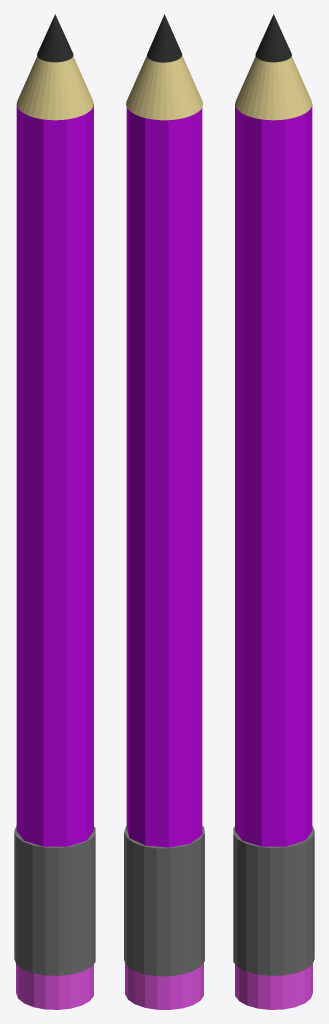
Rendered from pencil4.fbx.
The picture shows the model from 3 angles, left to right: view 1: azimuth 90°, elevation 25°; view 2: azimuth 150°, elevation 25°; view 3: azimuth 270°, elevation 25°; orthographic projection.
Parts seen in each view (by area): view 1: Cylinder, Cylinder.001, Cone, Cylinder.002, Cone.001; view 2: Cylinder, Cylinder.001, Cone, Cylinder.002, Cone.001; view 3: Cylinder, Cylinder.001, Cone, Cylinder.002, Cone.001.
Boxes of the visible parts, <box> form: Cylinder: <box>16,104,93,846</box>; Cylinder.001: <box>14,826,95,975</box>; Cone: <box>16,56,93,120</box>; Cylinder.002: <box>16,964,93,1009</box>; Cone.001: <box>37,14,73,62</box>; Cylinder: <box>126,107,202,847</box>; Cylinder.001: <box>124,826,204,976</box>; Cone: <box>126,55,202,120</box>; Cylinder.002: <box>125,962,203,1009</box>; Cone.001: <box>147,14,182,62</box>; Cylinder: <box>235,104,312,846</box>; Cylinder.001: <box>233,826,314,975</box>; Cone: <box>235,56,312,120</box>; Cylinder.002: <box>235,964,312,1009</box>; Cone.001: <box>255,14,291,62</box>.
Bounding box in the file's own units: 35.34 × 475 × 35.88.
